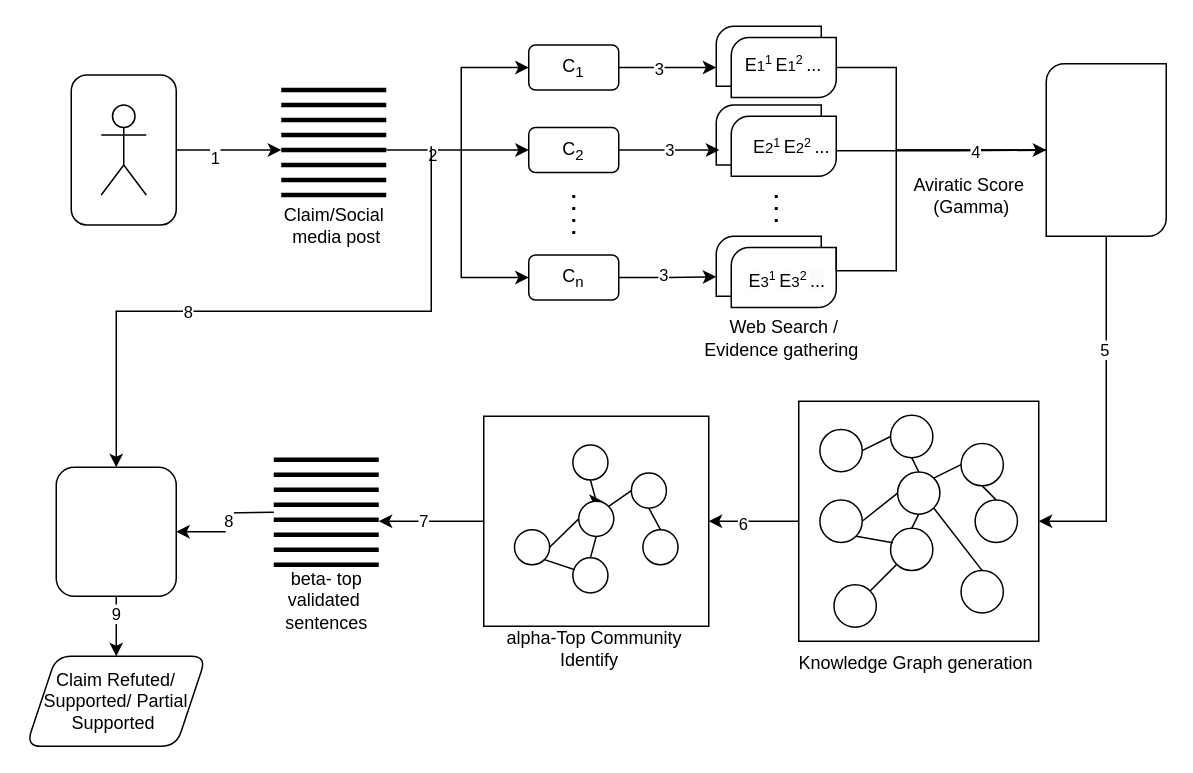
Some shapes in this 1193 by 773 pixel diagram are drawn without their labels. The shapes that lost their labels are listed below. From the top down, each one's centre as x and y in pixels, then its label:
At (x=123, y=149): "User".
At (x=1105, y=149): "Combined evidence of all atomic claims".
At (x=115, y=531): "PT-LLM ICL and prompting".
